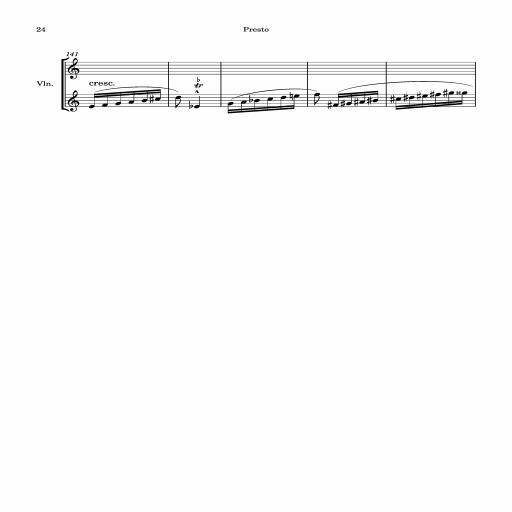crescendo_sign: (89, 82, 115, 86)
double_sharp_accidental: (456, 92, 461, 94)
eighth_note: (176, 96, 182, 108), (314, 93, 320, 105)
flat: (189, 101, 193, 109), (249, 95, 253, 103), (197, 77, 200, 82)
marcato_sign: (195, 90, 199, 93)
natural: (290, 92, 293, 100)
note_head: (128, 100, 134, 104), (241, 100, 247, 104), (294, 94, 300, 98), (359, 100, 365, 104), (422, 94, 428, 98), (448, 91, 454, 95), (462, 91, 467, 95), (115, 102, 121, 105), (142, 99, 148, 102), (228, 102, 234, 105), (254, 99, 260, 102), (346, 102, 352, 105), (409, 96, 415, 99), (435, 93, 441, 96), (176, 96, 182, 99), (194, 105, 200, 108), (314, 93, 320, 96), (89, 105, 94, 108), (281, 96, 286, 99), (373, 99, 378, 102), (102, 104, 108, 106), (155, 98, 161, 100), (333, 104, 339, 106), (268, 98, 273, 100), (396, 98, 401, 100)
quarter_note: (194, 96, 200, 108)
sharp: (367, 96, 372, 105), (149, 95, 154, 103), (390, 95, 395, 103), (443, 89, 448, 97), (341, 99, 345, 108), (404, 93, 408, 102), (430, 90, 434, 99), (328, 101, 332, 109), (354, 98, 358, 106), (417, 92, 421, 100)
sixteenth_note: (128, 91, 137, 104), (89, 94, 97, 108), (102, 92, 110, 106), (116, 92, 124, 105), (155, 89, 163, 101), (293, 94, 299, 109), (142, 90, 149, 102), (267, 97, 273, 111), (280, 96, 286, 110), (333, 94, 340, 106), (346, 93, 353, 105), (359, 92, 366, 104), (408, 96, 415, 108), (422, 94, 428, 108), (448, 92, 454, 106), (254, 99, 260, 112), (435, 93, 441, 106), (227, 102, 234, 113), (240, 100, 246, 112), (395, 98, 401, 110), (461, 92, 467, 104), (373, 91, 379, 102)
slur_sign: (338, 81, 473, 92), (231, 89, 317, 100), (94, 87, 178, 92)
staff: (65, 94, 476, 107), (65, 62, 476, 74)
treble_clef: (68, 90, 79, 112), (68, 58, 79, 79)
trill_sign: (194, 83, 203, 88)
